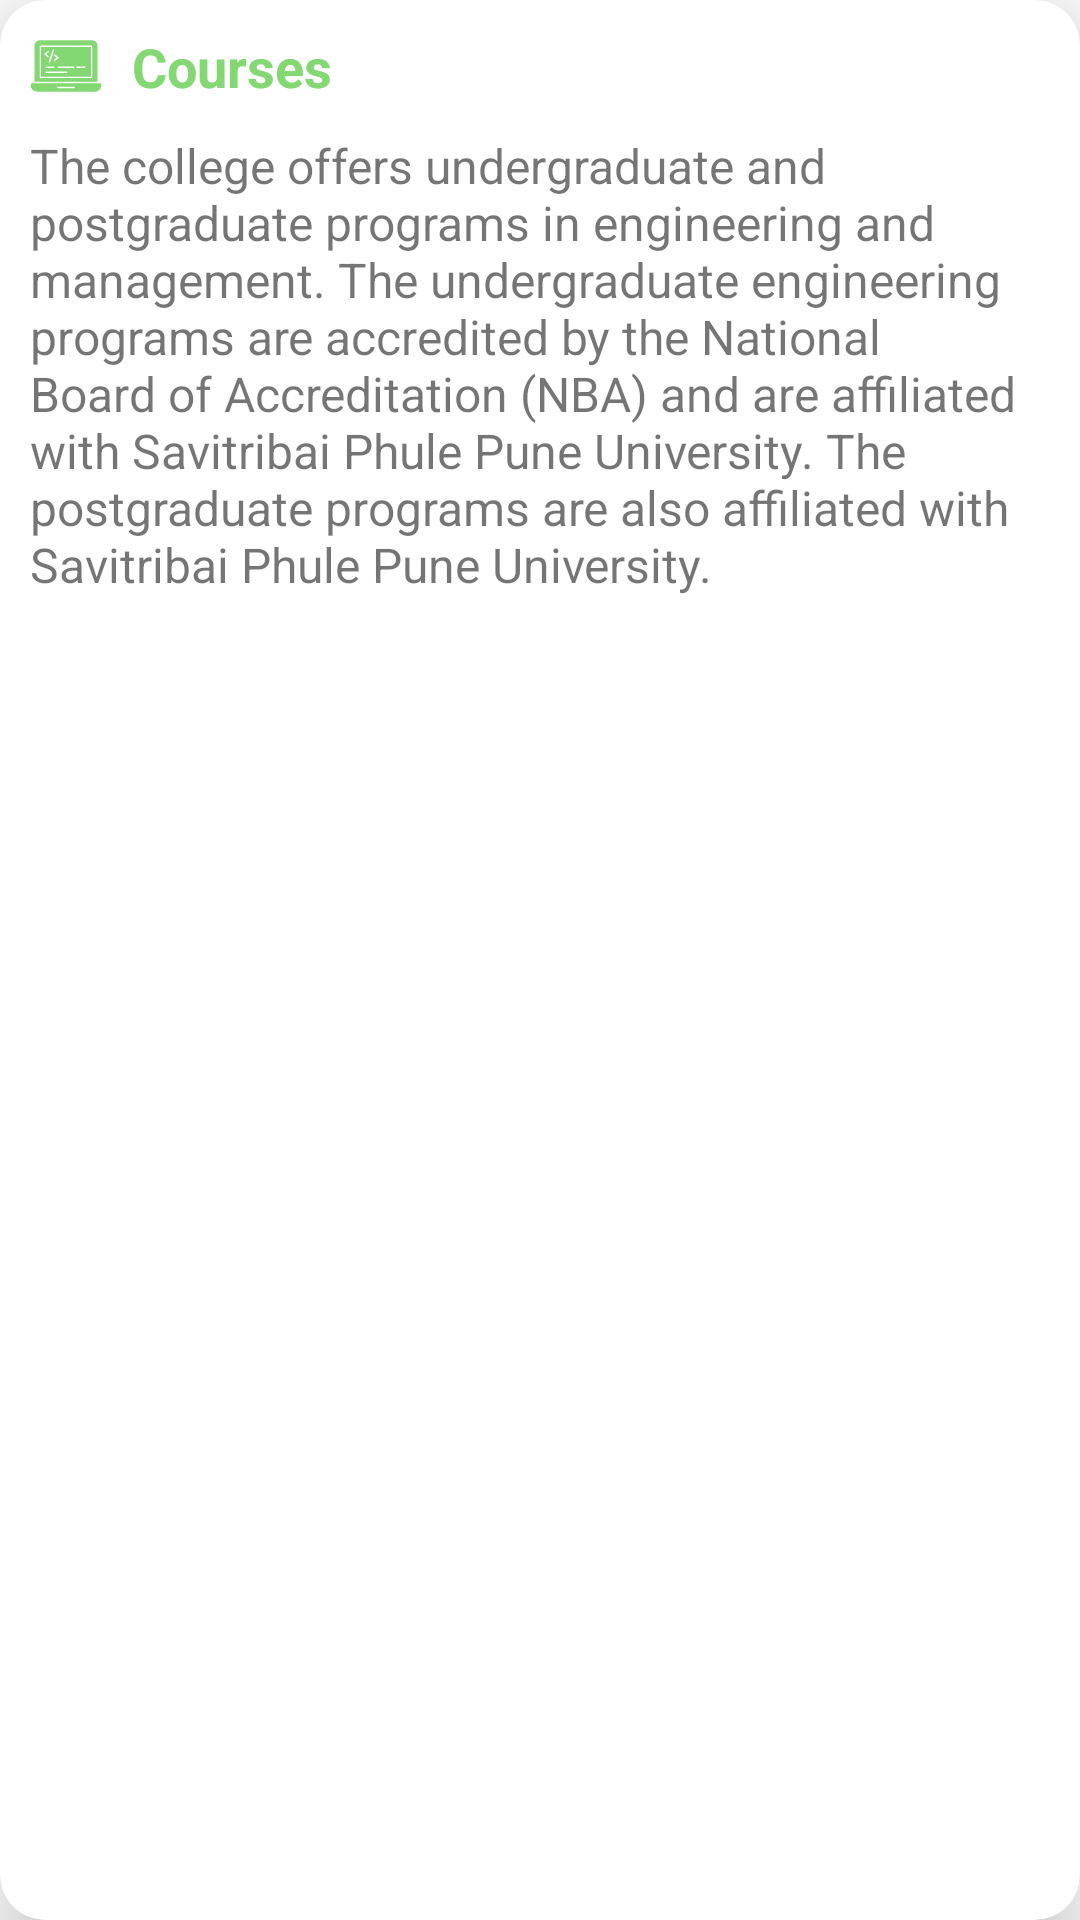

Where to tap for icons on this 1080x1920 app screen, as point (x, y):
dep comp: point (66, 66)
